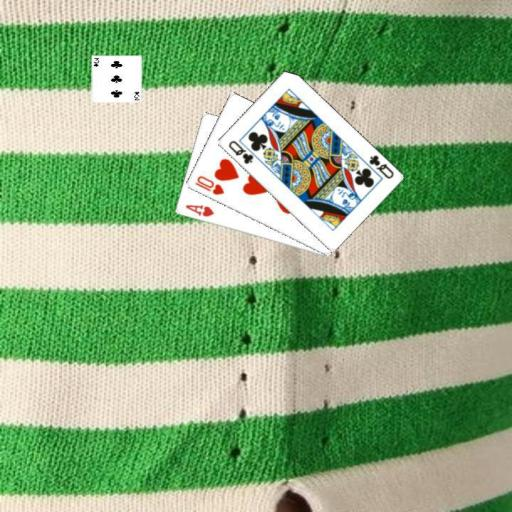10H: (192, 172, 226, 196)
AH: (182, 202, 216, 219)
QC: (225, 137, 255, 166), (366, 151, 395, 180)
